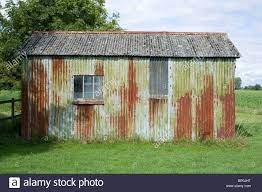Tin-shade House: (11, 22, 238, 148)
